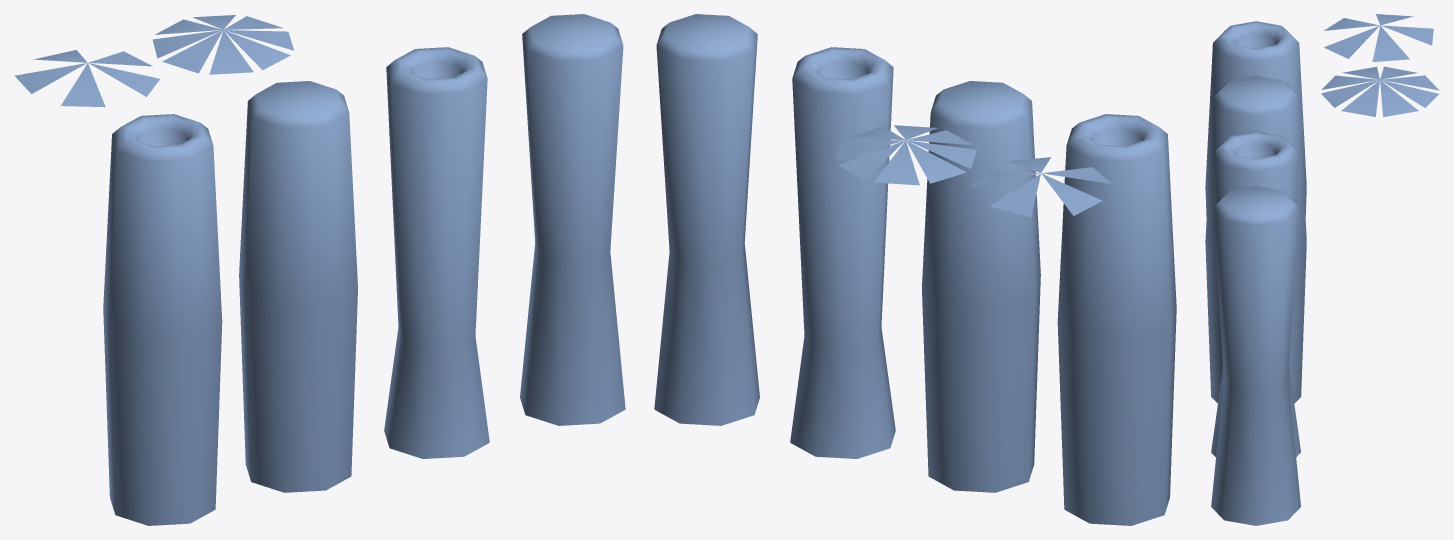
Rendered from svrCoralTubeKit.FBX.
3 renders of one model, left to right at view 1: azimuth 30°, elevation 25°; view 2: azimuth 150°, elevation 25°; view 3: azimuth 270°, elevation 25°, orthographic. The views are drawn at different scales.
Parts seen in each view (by area): view 1: svrCoralTubeA, svrCoralTubeC, svrCoralTubeB, svrCoralTubeD, svrCoralTubeFlowerA, svrCoralTubeFlowerB; view 2: svrCoralTubeA, svrCoralTubeC, svrCoralTubeD, svrCoralTubeB, svrCoralTubeFlowerA, svrCoralTubeFlowerB; view 3: svrCoralTubeD, svrCoralTubeC, svrCoralTubeA, svrCoralTubeB, svrCoralTubeFlowerA, svrCoralTubeFlowerB.
Part boxes in pixels (<box>): svrCoralTubeA: <box>103,114,222,525</box>; svrCoralTubeC: <box>239,81,357,492</box>; svrCoralTubeB: <box>384,47,489,458</box>; svrCoralTubeD: <box>520,14,625,425</box>; svrCoralTubeFlowerA: <box>152,15,293,74</box>; svrCoralTubeFlowerB: <box>14,50,159,107</box>; svrCoralTubeA: <box>1057,114,1176,525</box>; svrCoralTubeC: <box>922,81,1040,492</box>; svrCoralTubeD: <box>654,14,759,425</box>; svrCoralTubeB: <box>790,47,895,458</box>; svrCoralTubeFlowerA: <box>835,125,976,185</box>; svrCoralTubeFlowerB: <box>969,157,1111,217</box>; svrCoralTubeD: <box>1211,186,1300,525</box>; svrCoralTubeC: <box>1205,75,1306,403</box>; svrCoralTubeA: <box>1205,21,1306,216</box>; svrCoralTubeB: <box>1211,131,1300,457</box>; svrCoralTubeFlowerA: <box>1321,66,1439,117</box>; svrCoralTubeFlowerB: <box>1324,14,1433,61</box>.
Bounding box in the file's own units: 2.9 × 2.07 × 1.39.
